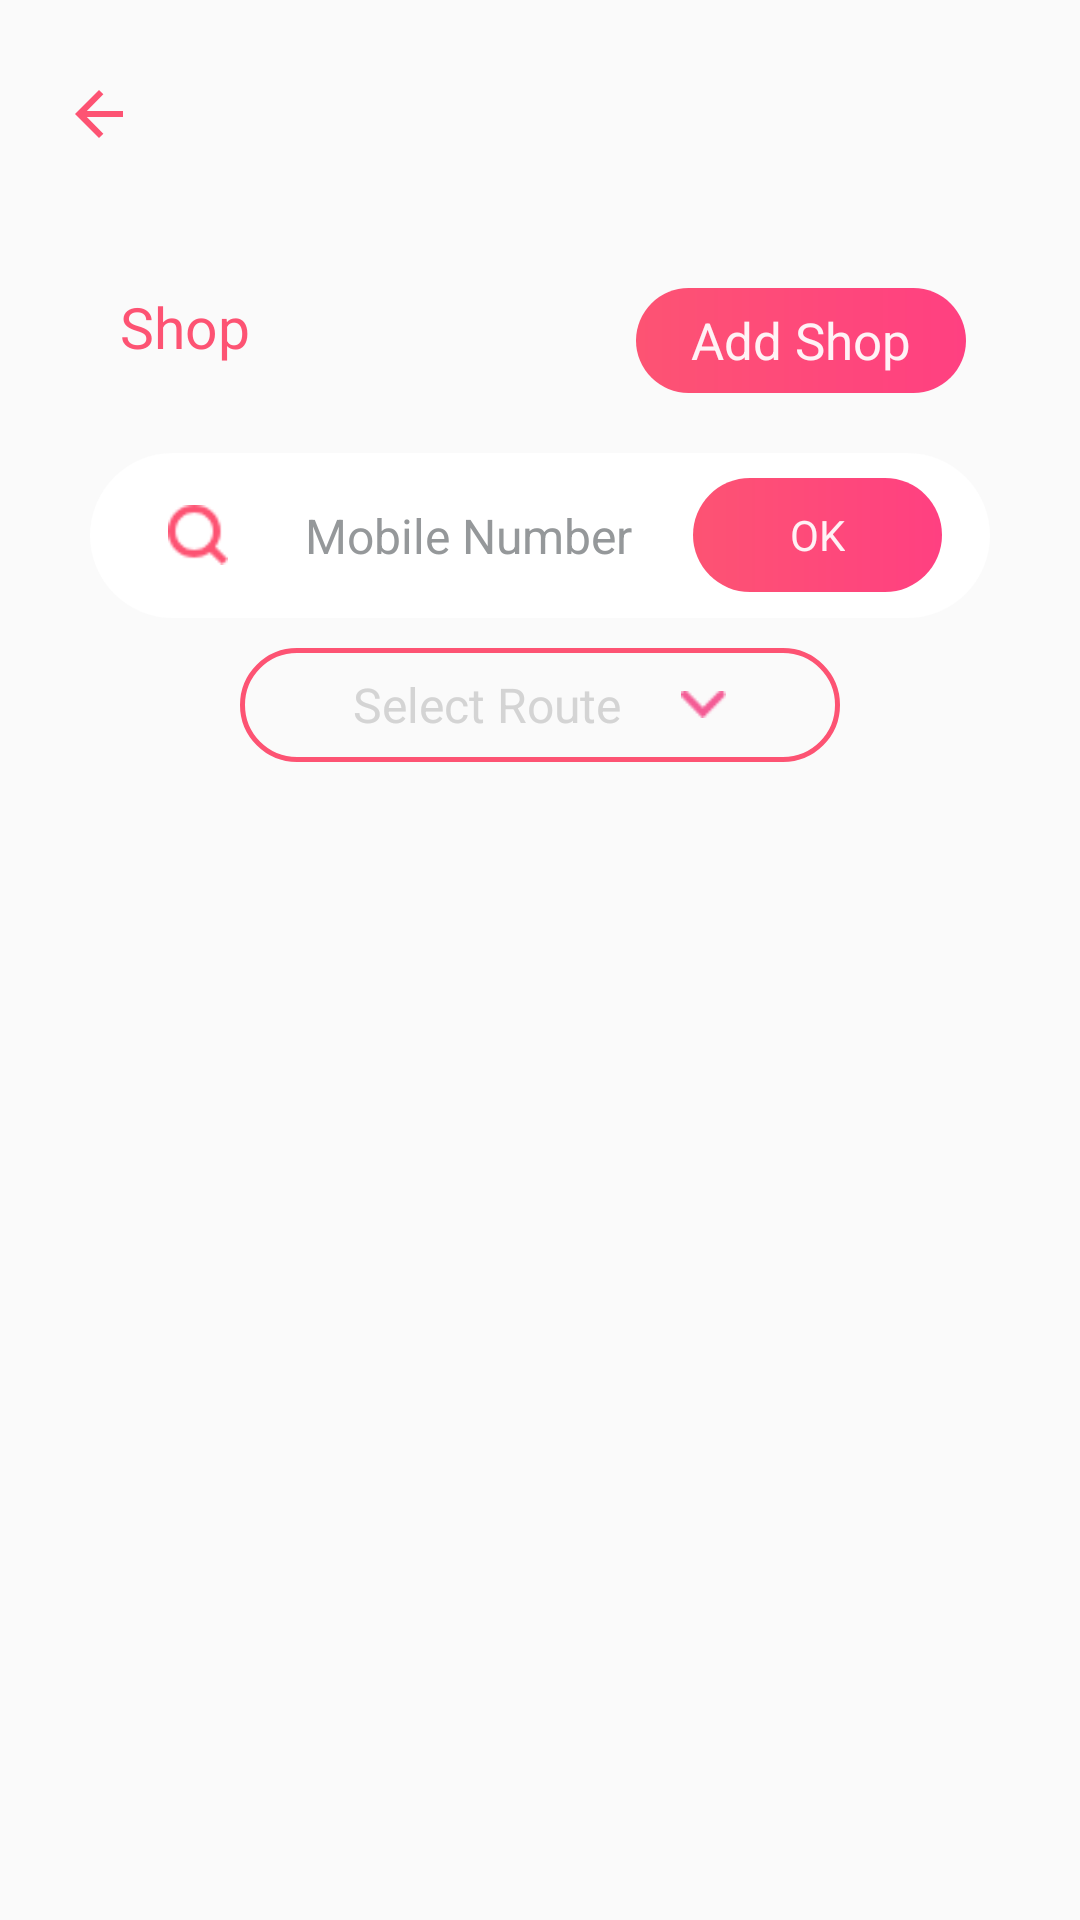

Icons on this 1080 x 1920 Android screen, each with its box as {"x1": x1, "y1": y1, "x2": x2, "y2": y2}:
backward: {"x1": 75, "y1": 90, "x2": 123, "y2": 138}
search: {"x1": 168, "y1": 505, "x2": 228, "y2": 565}
